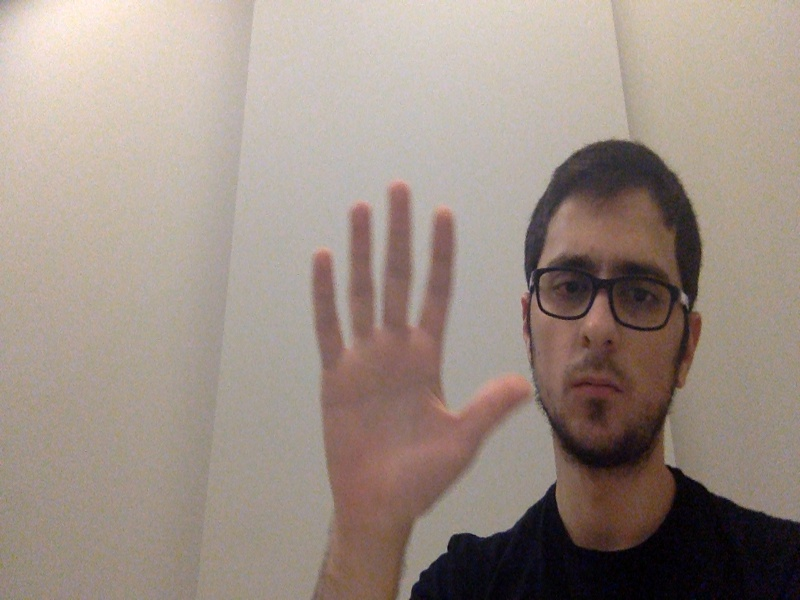5-hand: (309, 182, 529, 545)
